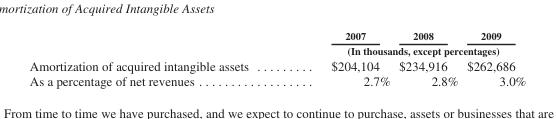table: (28, 29, 525, 88)
table column: (28, 29, 289, 88), (289, 29, 394, 88), (394, 29, 461, 88), (461, 29, 525, 88)
table column header: (28, 29, 525, 57)
table row: (28, 57, 525, 73), (28, 73, 525, 88), (28, 29, 525, 43), (28, 43, 525, 57)
table spanning cell: (289, 43, 525, 57)
